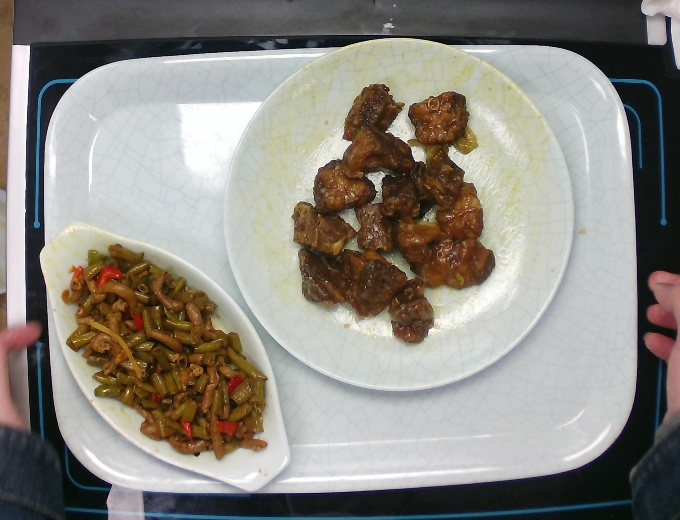JYsf-Da_Yuan_Pan: (214, 34, 576, 396)
JYsf-Yu_Pan: (34, 218, 295, 497)
